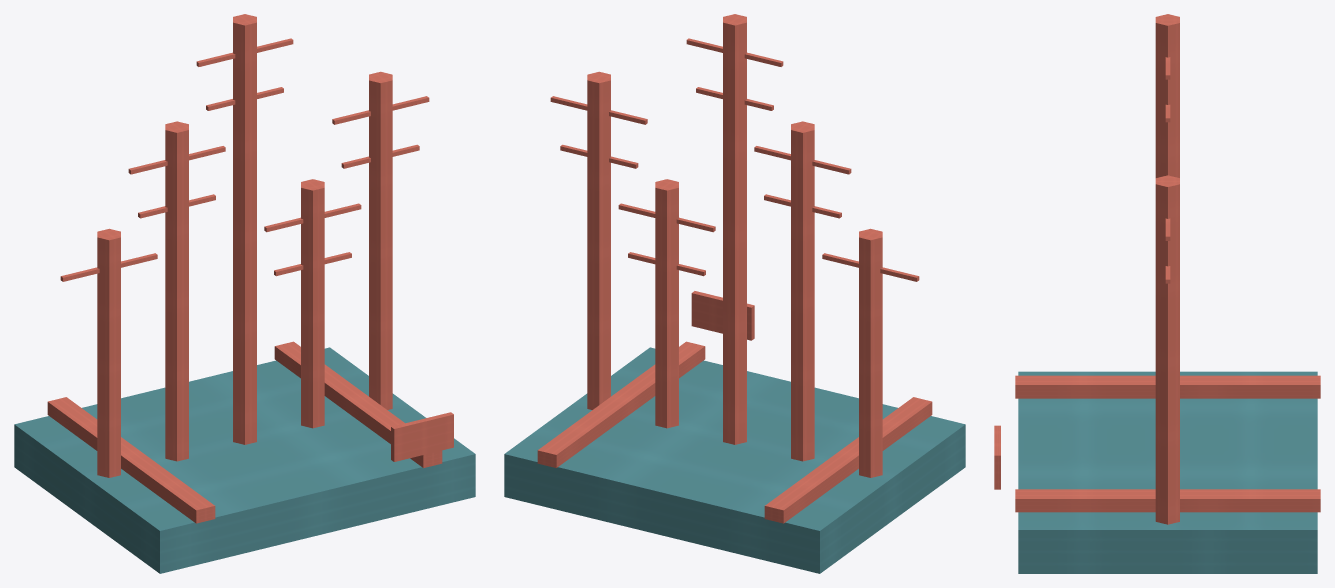
The model's file is atlas100-s079-a01.lod2.glb.
3 renders of one model, left to right at view 1: azimuth 30°, elevation 25°; view 2: azimuth 150°, elevation 25°; view 3: azimuth 270°, elevation 25°, orthographic. The views are drawn at different scales.
Parts seen in each view (by area): view 1: atlas100-s079-a01:part-000, atlas100-s079-a01:part-013, atlas100-s079-a01:part-008, atlas100-s079-a01:part-023, atlas100-s079-a01:part-003, atlas100-s079-a01:part-018, atlas100-s079-a01:part-001, atlas100-s079-a01:part-002, atlas100-s079-a01:part-028; view 2: atlas100-s079-a01:part-000, atlas100-s079-a01:part-013, atlas100-s079-a01:part-008, atlas100-s079-a01:part-023, atlas100-s079-a01:part-003, atlas100-s079-a01:part-018, atlas100-s079-a01:part-002, atlas100-s079-a01:part-001, atlas100-s079-a01:part-028; view 3: atlas100-s079-a01:part-000, atlas100-s079-a01:part-023, atlas100-s079-a01:part-001, atlas100-s079-a01:part-002, atlas100-s079-a01:part-013, atlas100-s079-a01:part-028.
Part boxes in pixels (<box>): atlas100-s079-a01:part-000: <box>14,347,475,573</box>; atlas100-s079-a01:part-013: <box>233,14,256,444</box>; atlas100-s079-a01:part-008: <box>165,121,188,461</box>; atlas100-s079-a01:part-023: <box>369,71,392,409</box>; atlas100-s079-a01:part-003: <box>97,228,120,477</box>; atlas100-s079-a01:part-018: <box>301,179,324,428</box>; atlas100-s079-a01:part-001: <box>47,397,215,523</box>; atlas100-s079-a01:part-002: <box>274,341,442,467</box>; atlas100-s079-a01:part-028: <box>391,412,453,461</box>; atlas100-s079-a01:part-000: <box>504,347,965,573</box>; atlas100-s079-a01:part-013: <box>723,14,746,444</box>; atlas100-s079-a01:part-008: <box>791,121,814,461</box>; atlas100-s079-a01:part-023: <box>587,71,610,409</box>; atlas100-s079-a01:part-003: <box>859,228,882,477</box>; atlas100-s079-a01:part-018: <box>655,179,678,428</box>; atlas100-s079-a01:part-002: <box>537,341,705,467</box>; atlas100-s079-a01:part-001: <box>764,397,932,523</box>; atlas100-s079-a01:part-028: <box>691,291,754,340</box>; atlas100-s079-a01:part-000: <box>1018,371,1317,573</box>; atlas100-s079-a01:part-023: <box>1155,175,1179,524</box>; atlas100-s079-a01:part-001: <box>1015,375,1320,398</box>; atlas100-s079-a01:part-002: <box>1015,489,1320,512</box>; atlas100-s079-a01:part-013: <box>1155,14,1179,177</box>; atlas100-s079-a01:part-028: <box>994,425,1000,489</box>.
Size of the model in its own units: 2.32 by 2.8 by 1.74.
2 materials, 2 textured.
